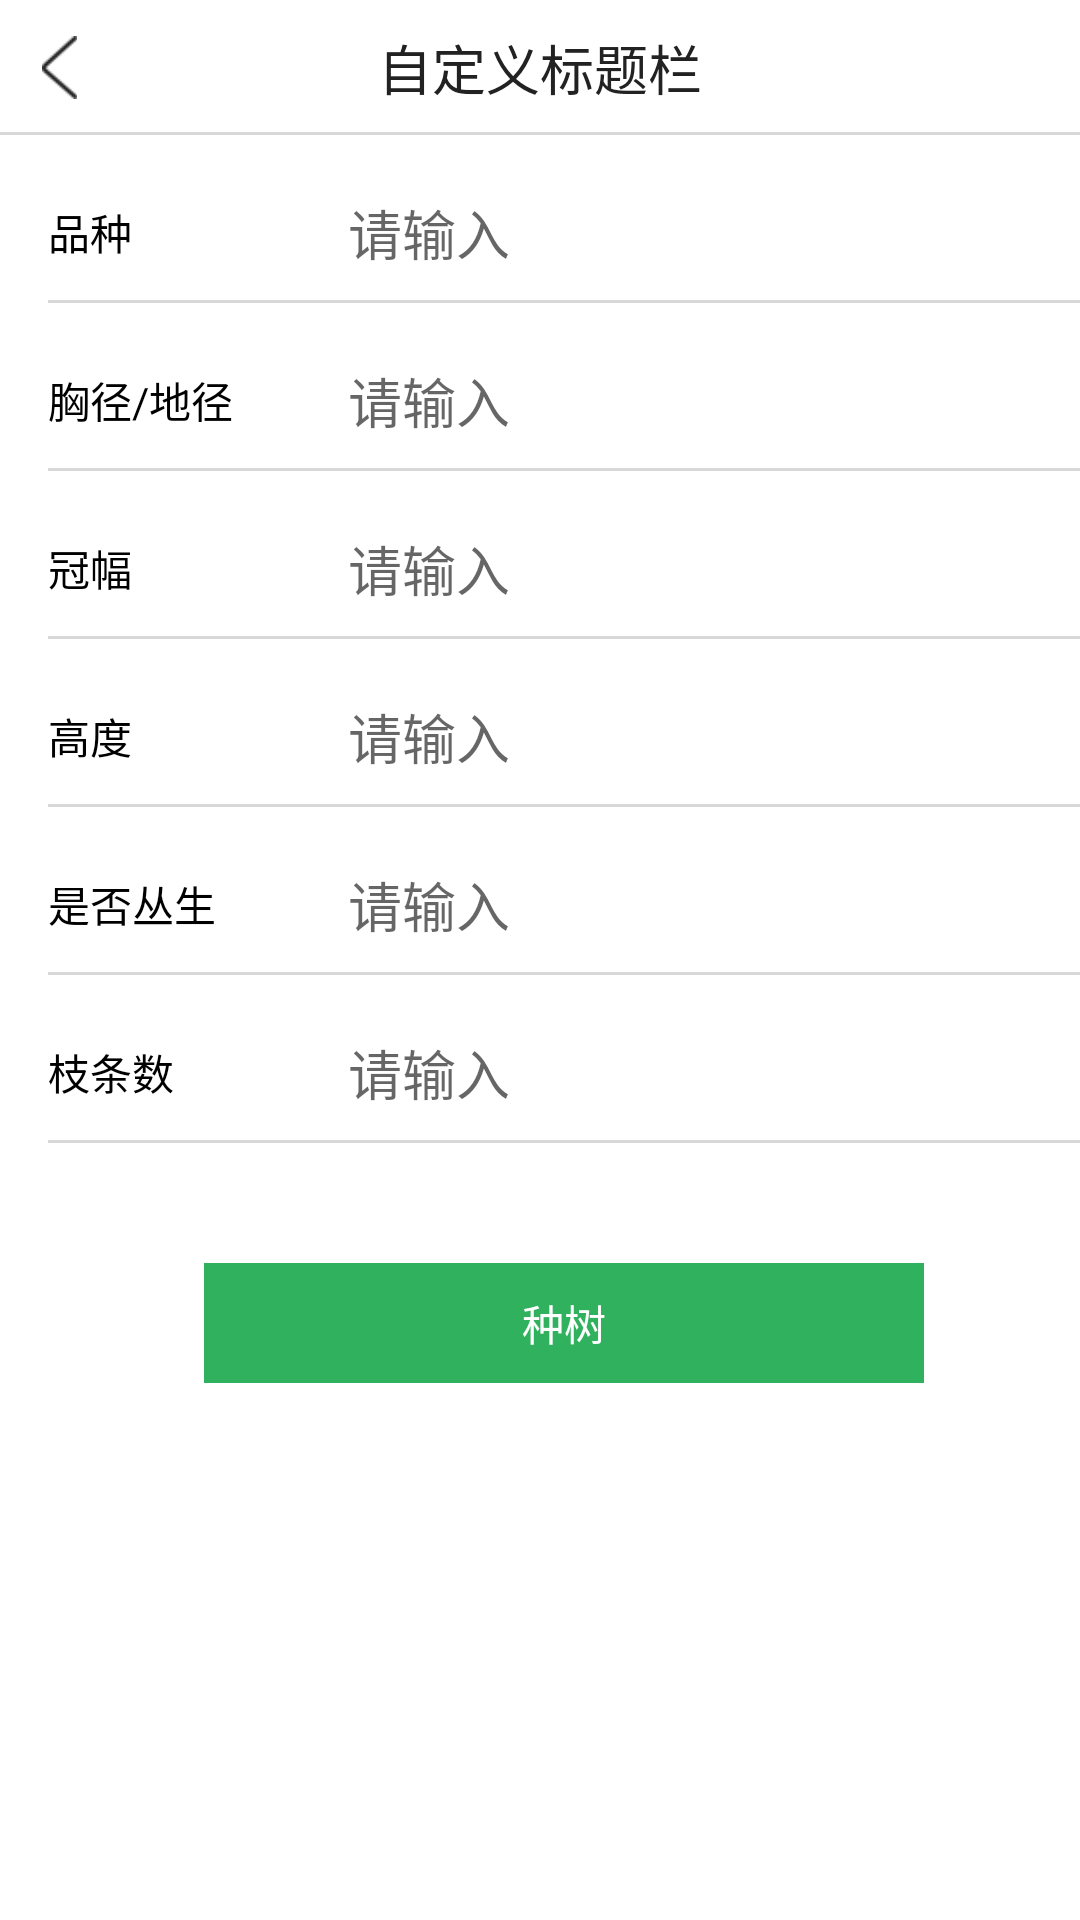

Screen size 1080px×1920px. Icon name, then its center in pixels as point (x, y):
back: point (59, 67)
